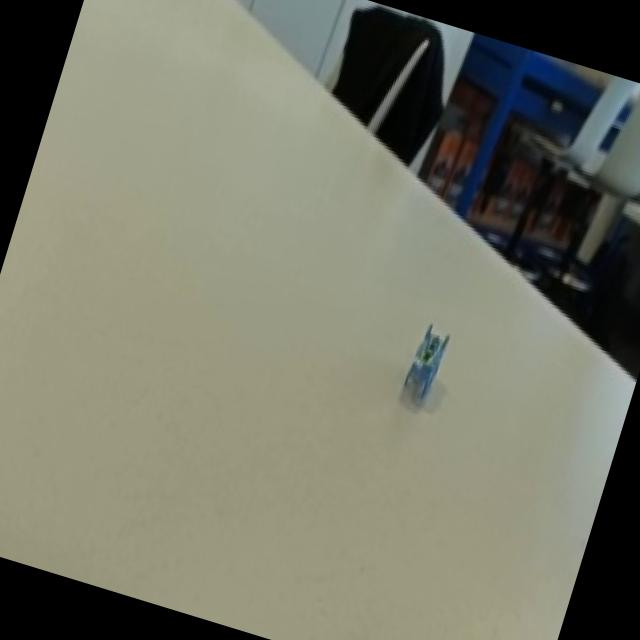3_NanoBug_Celeste: (372, 299, 479, 415)
